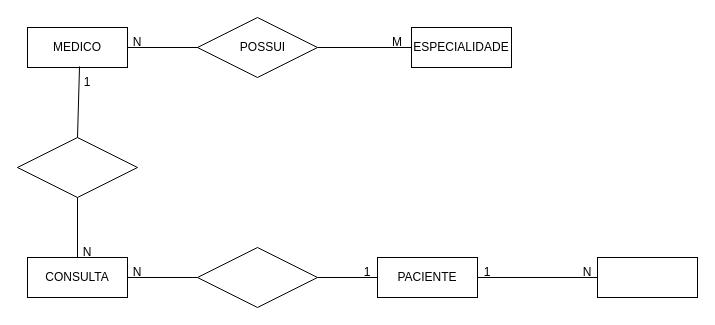
Some shapes in this 715 by 325 pixel diagram are drawn without their labels. The shapes that lost their labels are listed below. From the top down, each one's centre as x and y in pixels, then its label:
At [77,167]: "ATENDE".
At [257,277]: "PERTENCE".
At [647,277]: "TELEFONE".
